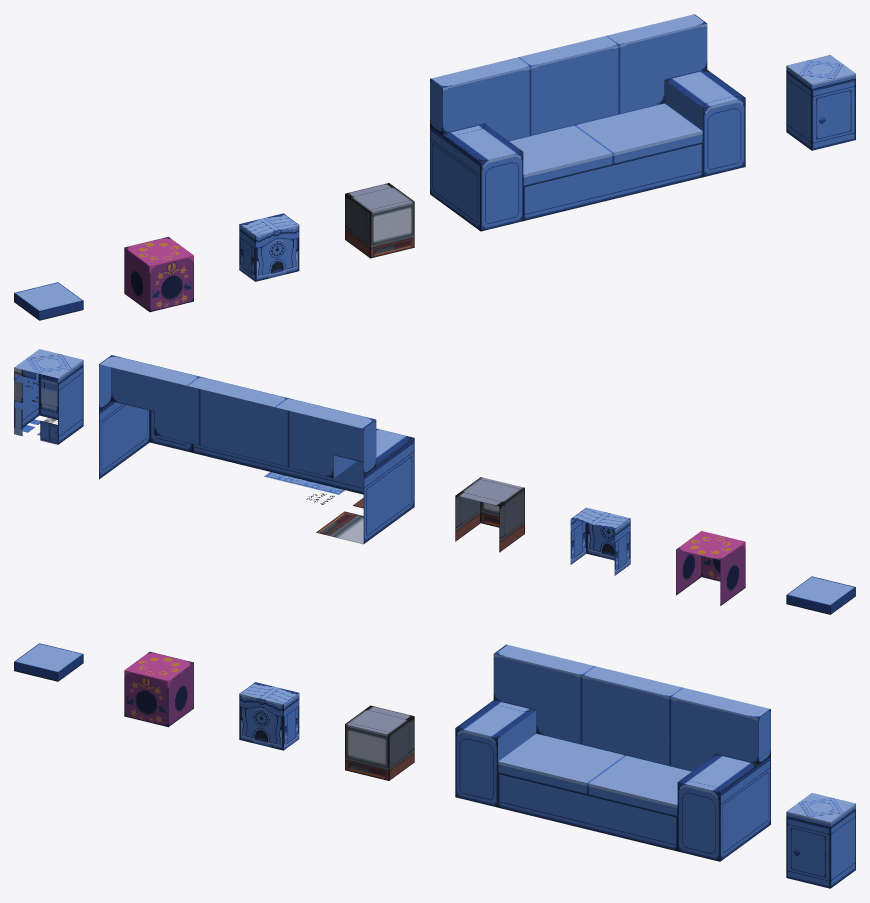
File: models.fbx
3 views of the same model, one above another, from view 1: azimuth 30°, elevation 25°; view 2: azimuth 150°, elevation 25°; view 3: azimuth 330°, elevation 25° (orthographic).
Parts seen in each view (by area): view 1: Sofa, Mudo, TV, CasaTutu, Relogio, Cube; view 2: Sofa, Mudo, TV, CasaTutu, Relogio, Cube; view 3: Sofa, Mudo, CasaTutu, TV, Relogio, Cube.
Part boxes in pixels (x1,y1,x2,y2): Sofa: (430, 14, 745, 231); Mudo: (786, 55, 855, 150); TV: (345, 183, 414, 258); CasaTutu: (124, 236, 193, 312); Relogio: (239, 213, 299, 281); Cube: (14, 282, 83, 320); Sofa: (99, 355, 414, 544); Mudo: (14, 349, 83, 444); TV: (455, 477, 524, 552); CasaTutu: (676, 531, 745, 605); Relogio: (570, 507, 630, 575); Cube: (786, 576, 855, 614); Sofa: (455, 644, 770, 861); Mudo: (786, 793, 855, 888); CasaTutu: (124, 651, 193, 727); TV: (345, 705, 414, 780); Relogio: (239, 682, 299, 750); Cube: (14, 643, 83, 681).
Size of the model in its own units: 3700 by 500 by 400.
